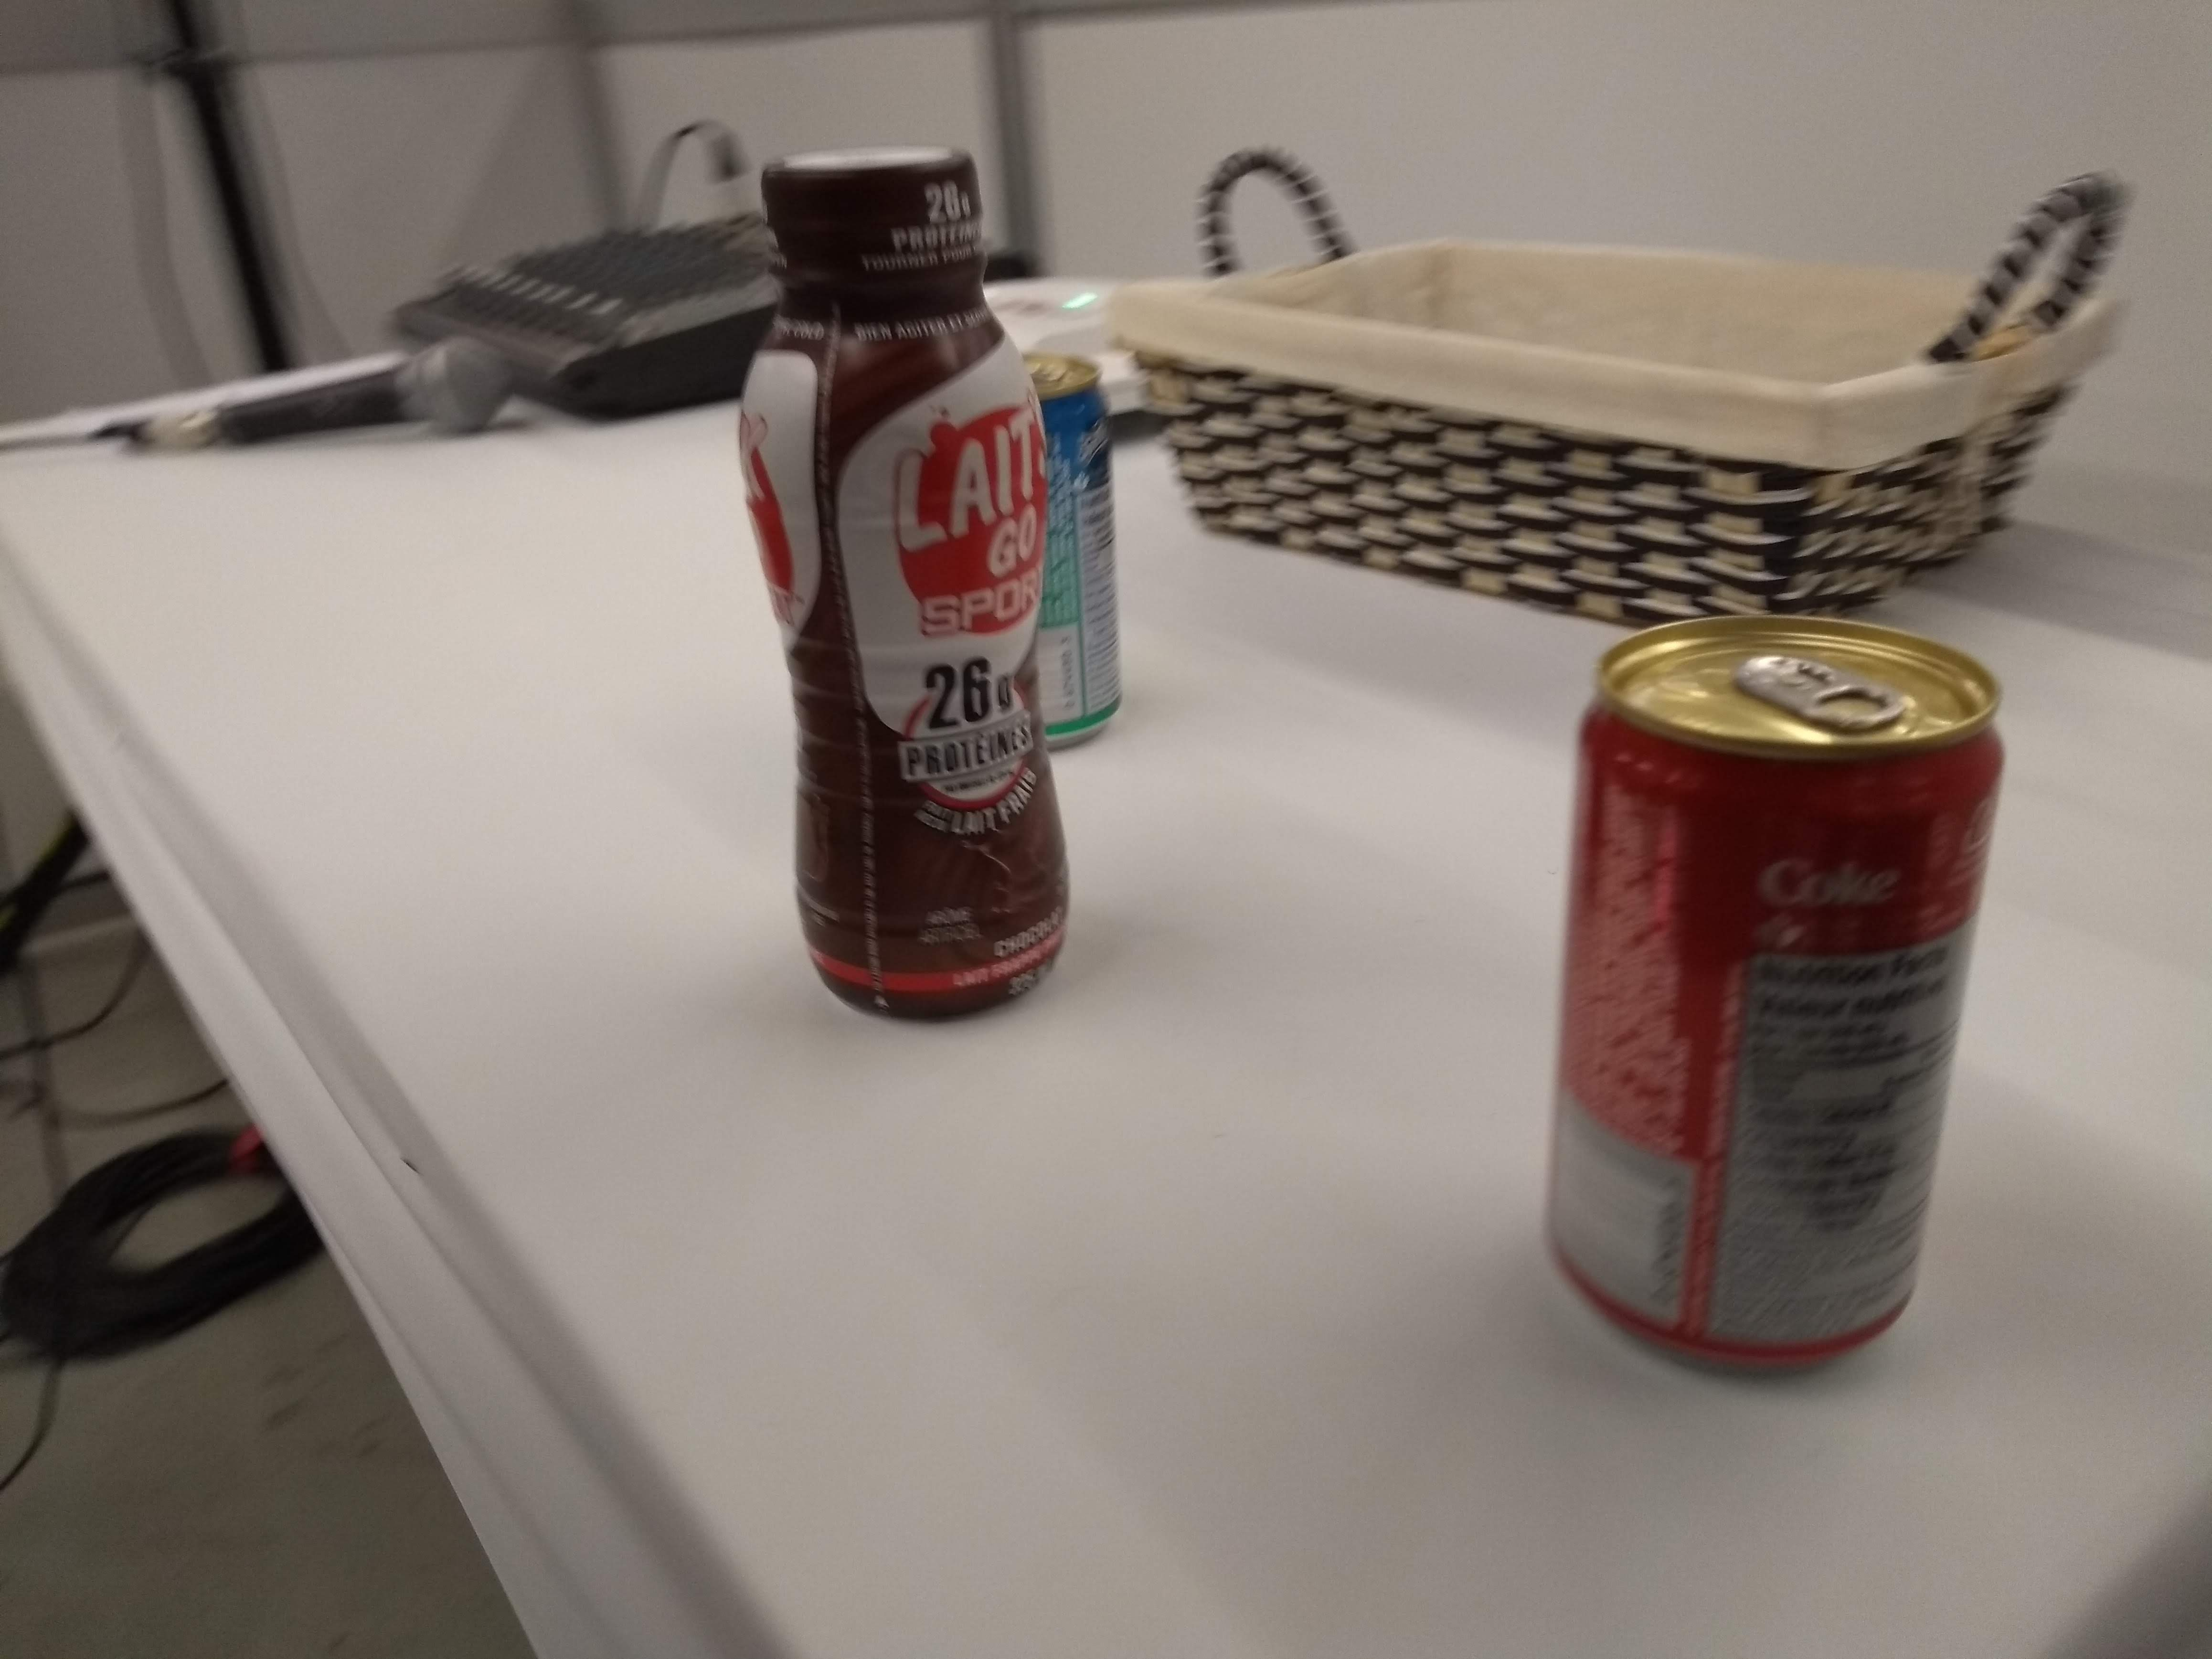basket: (1104, 120, 2144, 664)
chocolate_drink: (728, 139, 1096, 1035)
coke: (1526, 612, 2012, 1401)
